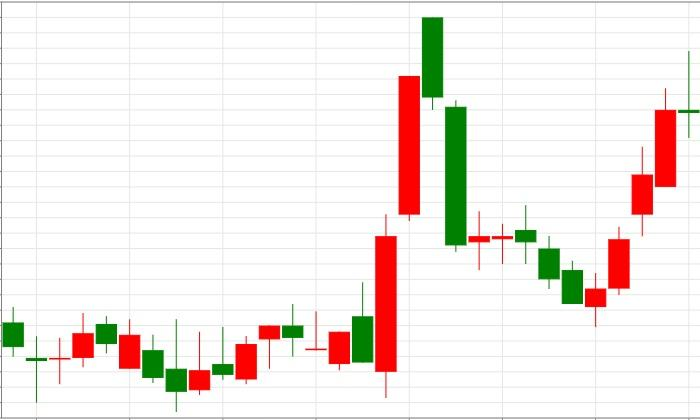three_white_soldiers_rise: (422, 16, 653, 327)
